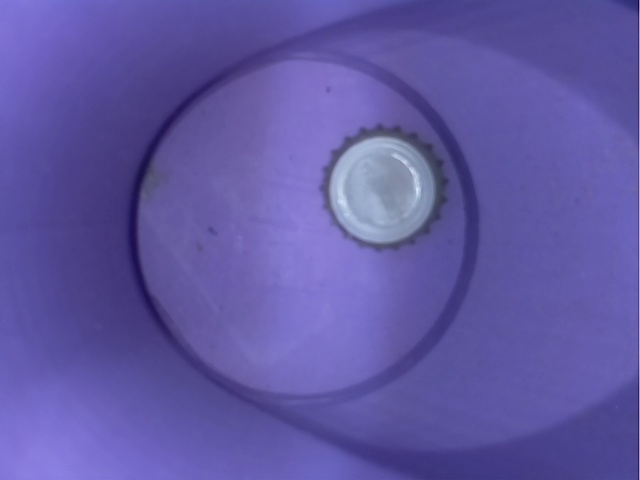capsule: (309, 115, 453, 251)
